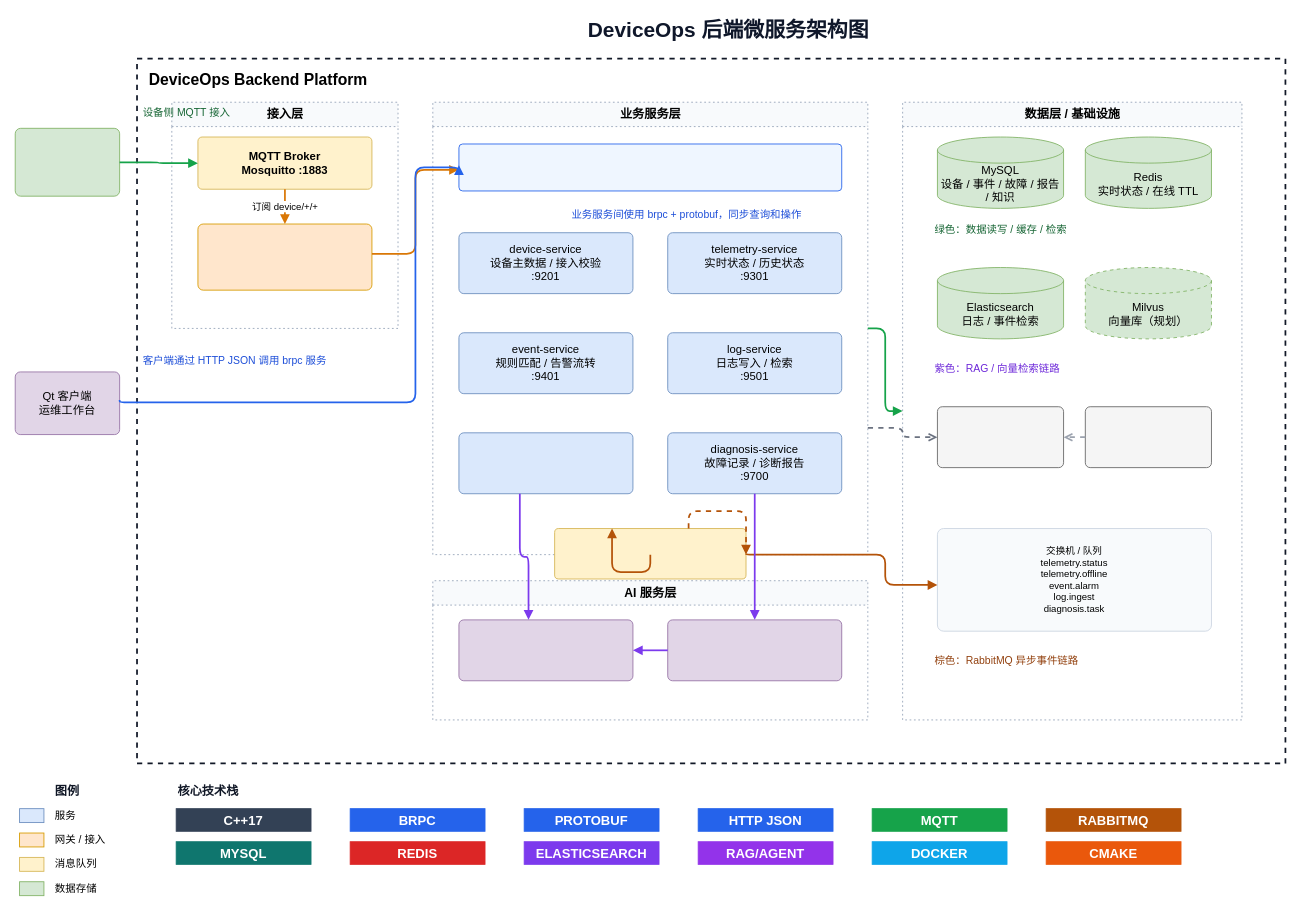
This 1302x912 diagram has some shape labels left out. Here are the shapes that lost their labels. From the top down, the centre of each, then its label:
At point 67,161: "机器人 / 工业设备 设备模拟器".
At point 650,167: "brpc + Protobuf HTTP JSON 调试入口".
At point 284,256: "device-gateway 设备接入 / 协议解析 / 转发 RPC :9101".
At point 1000,437: "etcd 服务注册发现".
At point 1147,437: "Docker / Compose 本地联调环境".
At point 545,463: "knowledge-service 知识文档 / 检索 / 索引 :9600".
At point 650,553: "RabbitMQ 业务事件总线".
At point 545,650: "rag-service /retrieve /diagnose HTTP :9601".
At point 754,650: "Agent / RAG 编排 上下文聚合 + 诊断生成".
